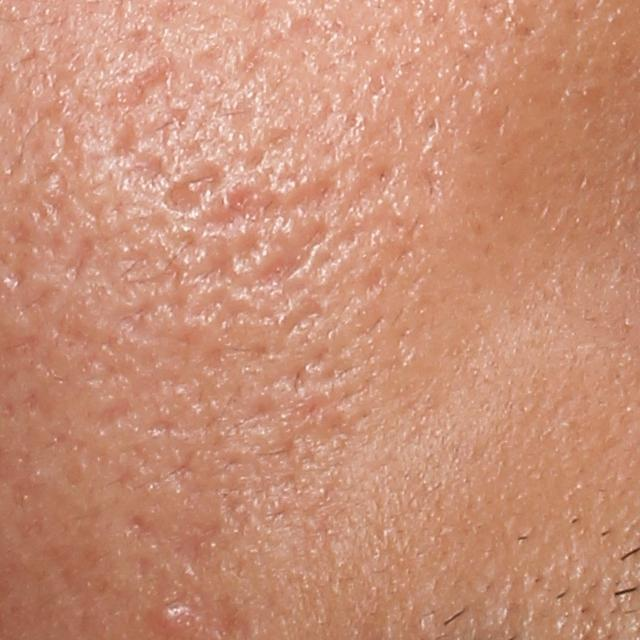atrophic_scar: (224, 221, 329, 300), (102, 51, 183, 109), (194, 186, 289, 229), (164, 159, 232, 218), (54, 225, 99, 297), (124, 145, 181, 199), (90, 395, 139, 437)
papule: (156, 601, 192, 633)
